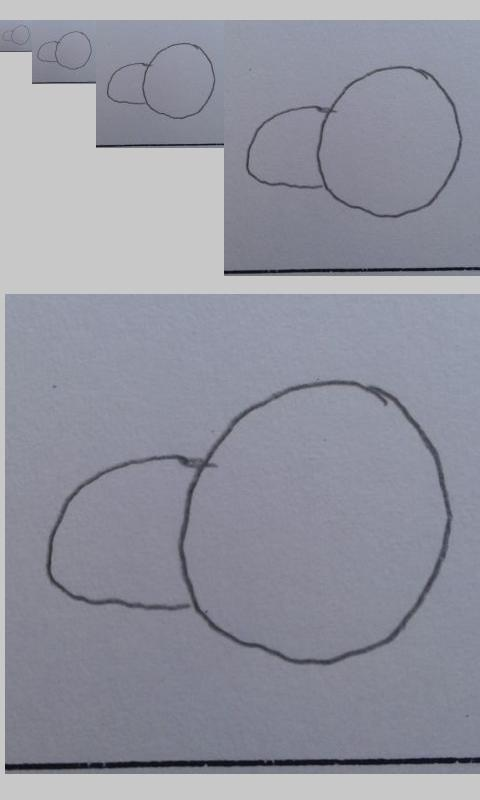switch: (45, 380, 454, 668), (245, 66, 464, 220), (106, 42, 217, 120), (37, 30, 93, 71), (2, 25, 31, 45)
